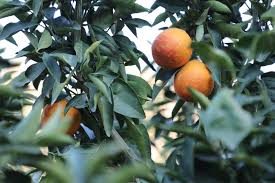orange: (35, 91, 81, 139), (173, 58, 216, 105), (150, 27, 196, 67)
